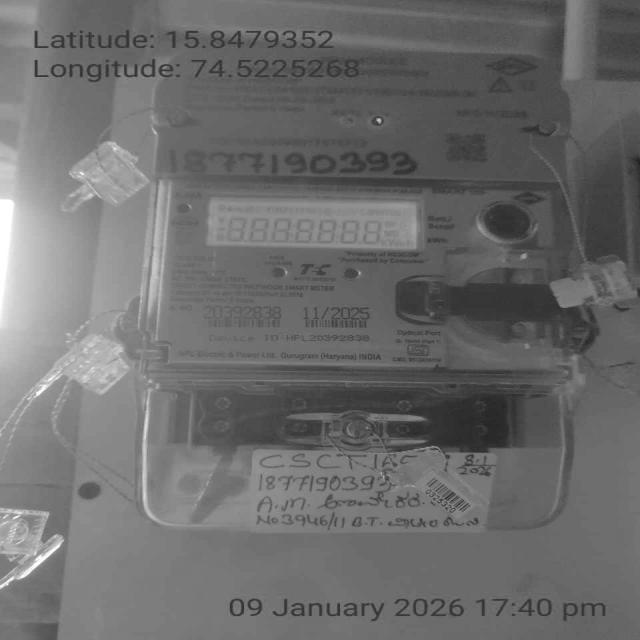meter: (158, 31, 576, 372)
